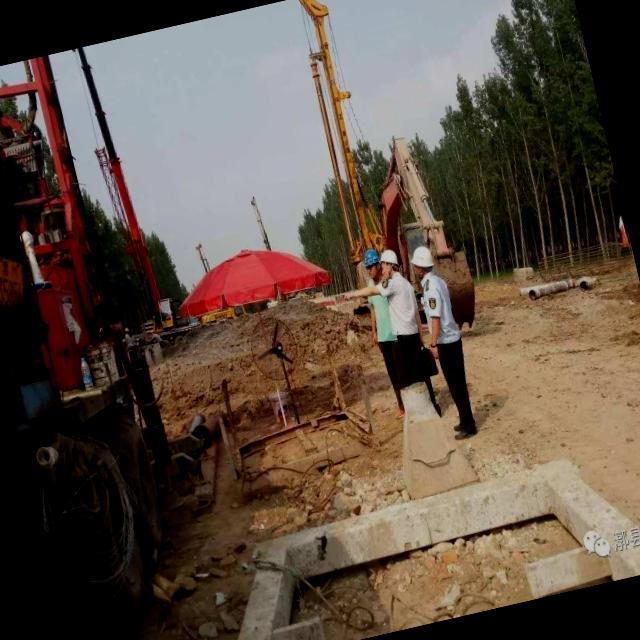helmet: (404, 240, 436, 278), (375, 246, 400, 272)
no-vest: (378, 271, 424, 335), (422, 274, 458, 342)
